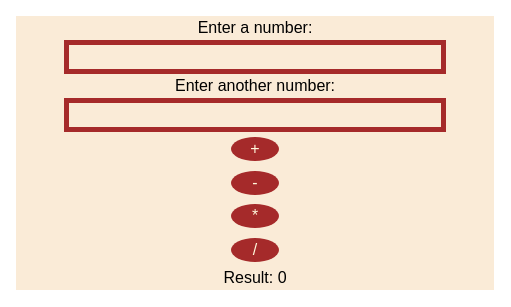
Scenario: Calculator Component › Multiplying displays the correct product
Type "4" into the field labelled "Enter a number:" at x=255, y=57, box [64,40,446,74]
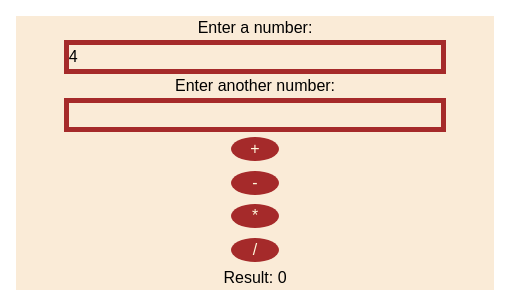
Type "3" into the field labelled "Enter another number:" at x=255, y=115, box [64,98,446,132]
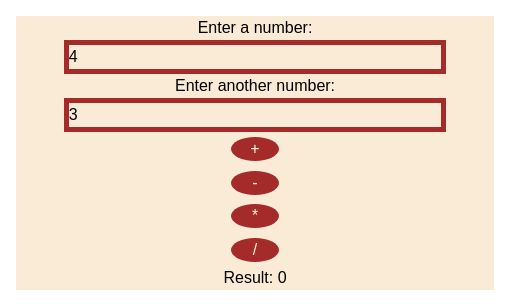
Click the button "*" at x=255, y=216, box [231,204,279,228]
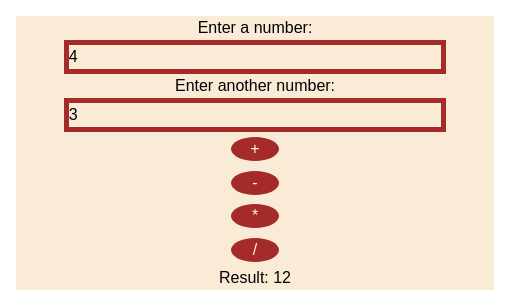
expect the text "Result: 12" is shown: met, box [219,266,291,290]
